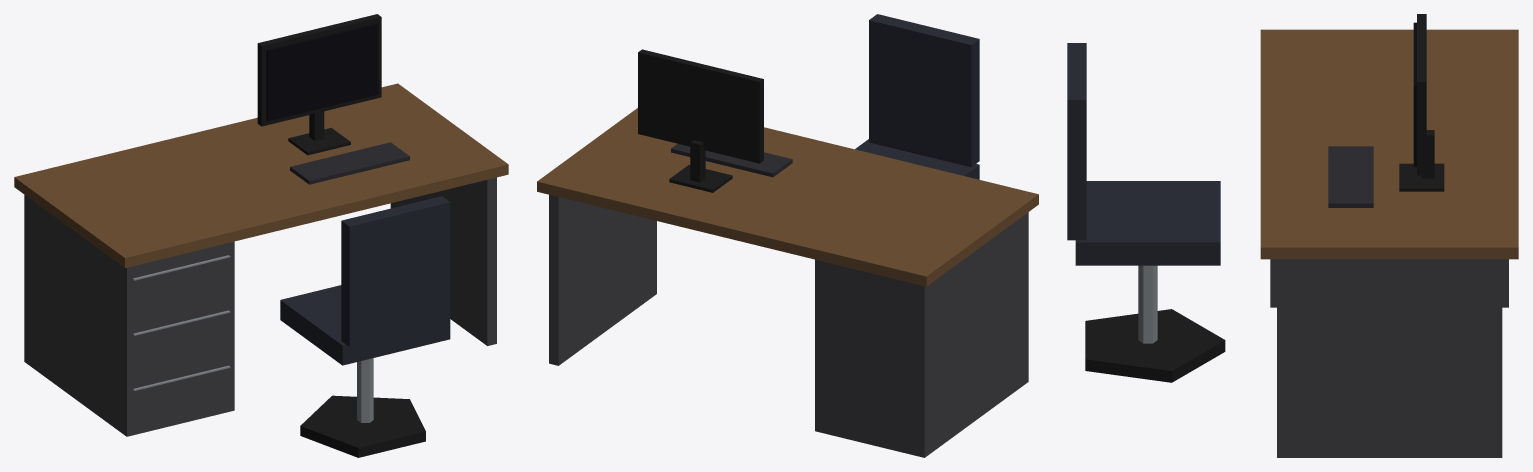
File: desk.glb
3 views of the same model, side by side, from view 1: azimuth 30°, elevation 25°; view 2: azimuth 150°, elevation 25°; view 3: azimuth 270°, elevation 25° (orthographic). The views are drawn at different scales.
Visible parts, largest first — view 1: desk; view 2: desk; view 3: desk.
Boxes of the visible parts, x1,y1,x2,y2 form: desk: (14, 14, 508, 457); desk: (537, 14, 1038, 457); desk: (1067, 14, 1518, 457).
Bounding box in the file's own units: 1.6 × 1.18 × 1.4.
